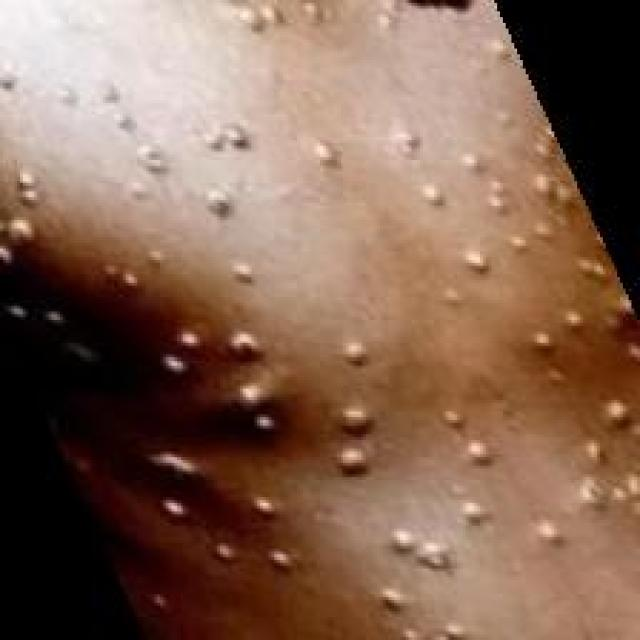monkeypox: (6, 0, 530, 640)
